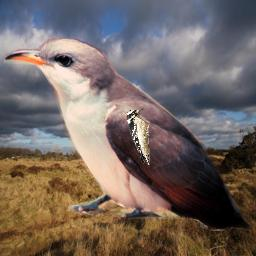Cuckoo: (4, 38, 253, 231)
Woodpecker: (125, 108, 150, 165)
